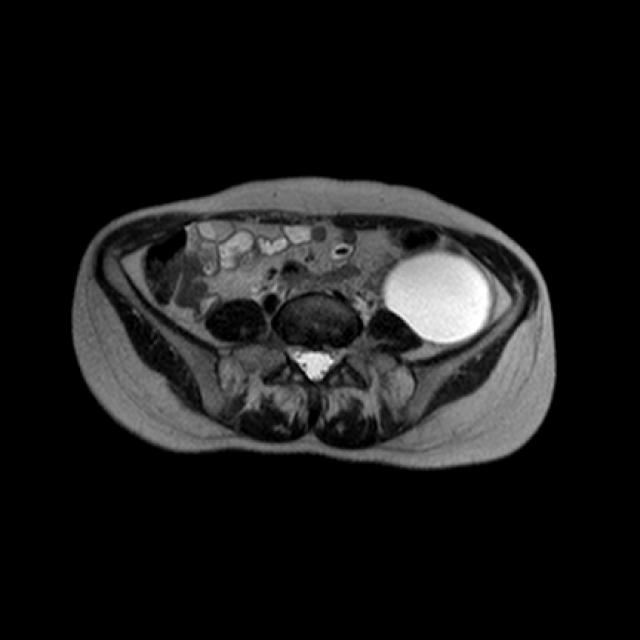sol: (380, 249, 495, 343)
